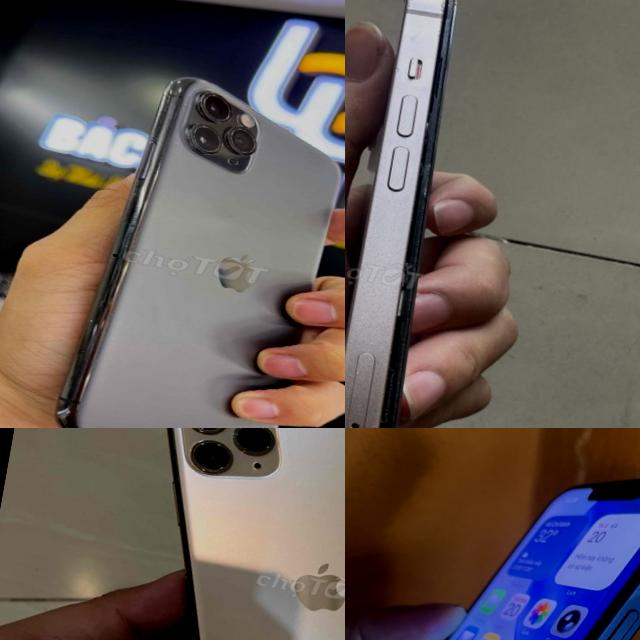gen_11: (56, 78, 339, 428), (93, 428, 345, 640)
gen_12_13: (345, 0, 526, 428), (345, 428, 640, 640)
scratch: (102, 199, 146, 309), (80, 315, 128, 341), (68, 341, 98, 367)
